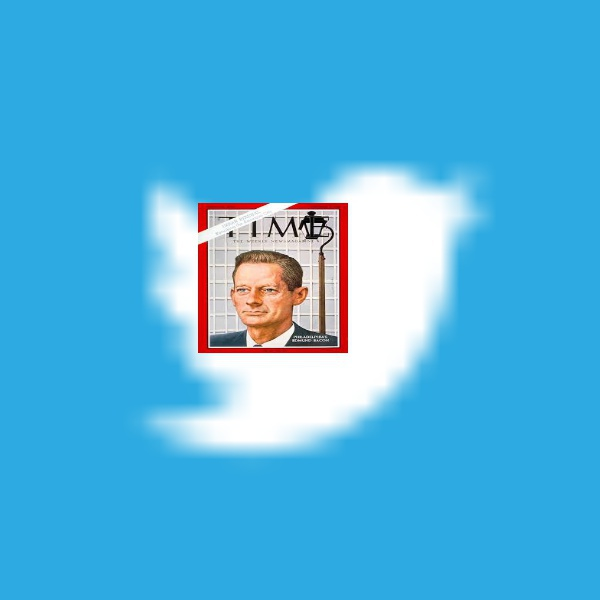time_cover: (200, 201, 344, 355)
